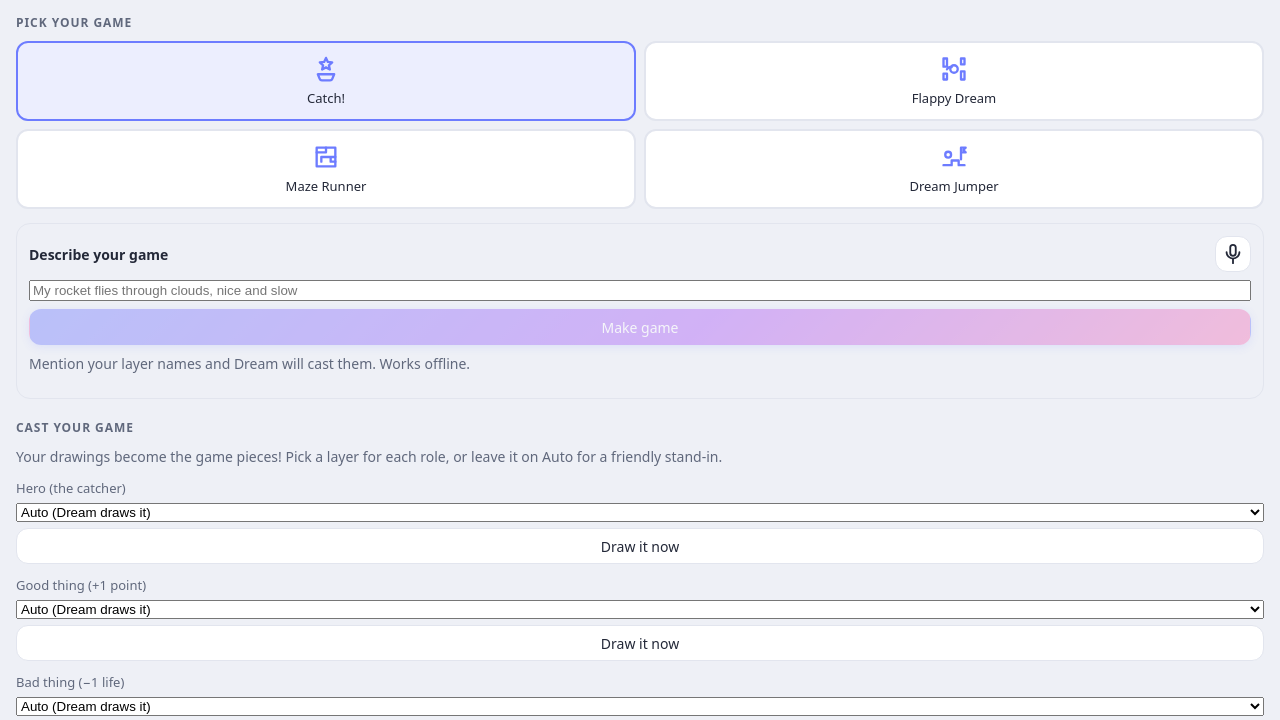
PlayPanel game maker › prepares Dream Jumper from run-and-jump language
The width and height of the screenshot is (1280, 720).
Type "Rocket should run and jump over Clouds to reach the flag" into the field labelled "Describe your game" at coordinates (640, 290), box [29,280,1251,301]
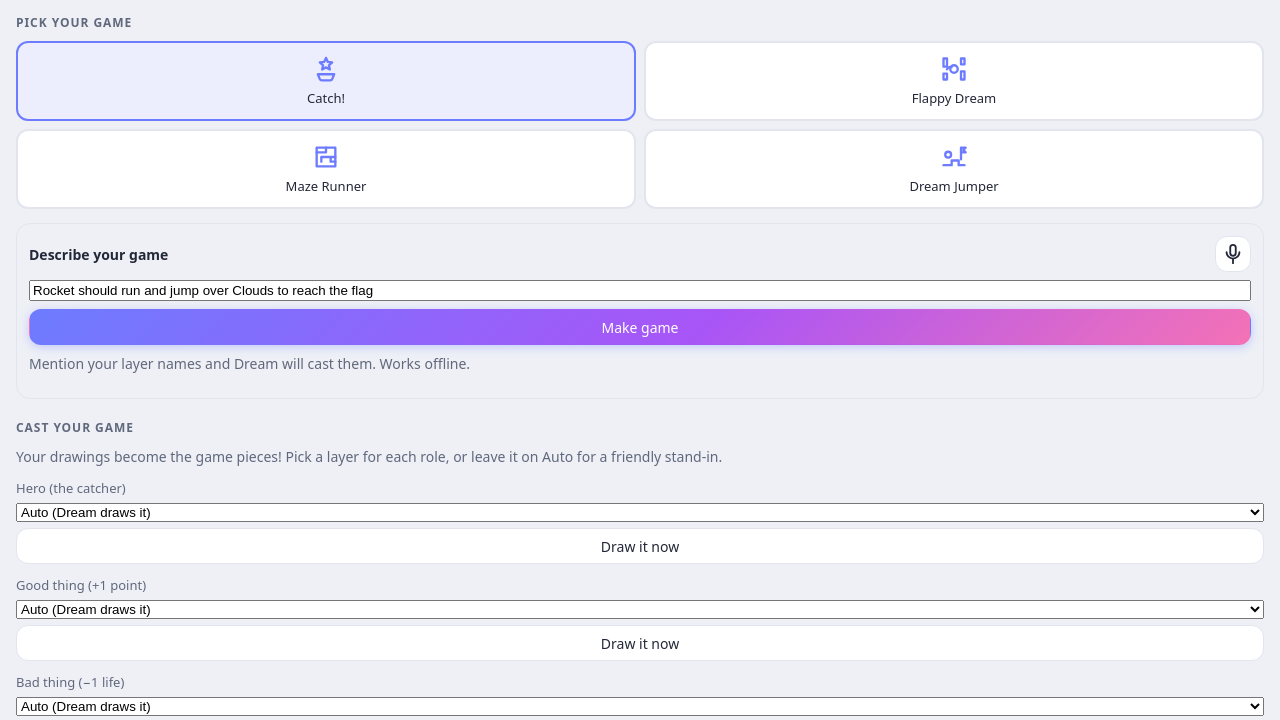
Click the button "Make game" at coordinates (640, 327), box [29,309,1251,345]
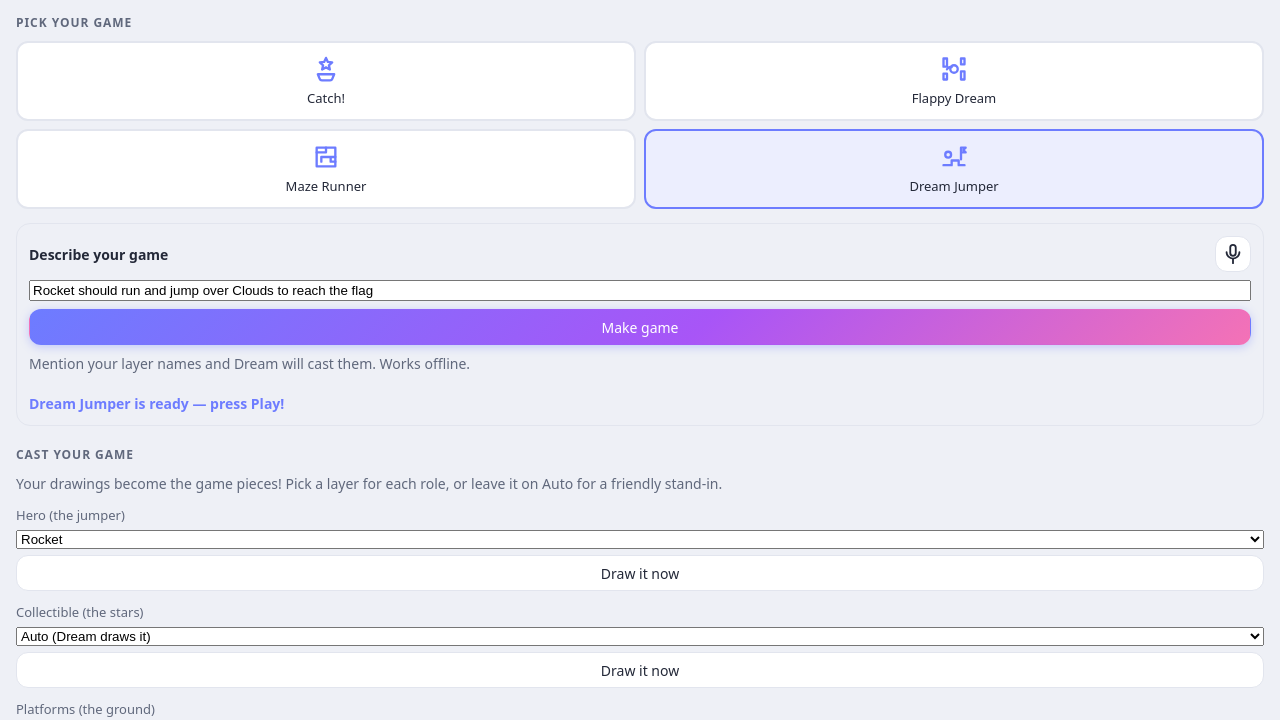
Check: the message reads "Dream Jumper is ready — press Play!", box [29,394,284,413]
